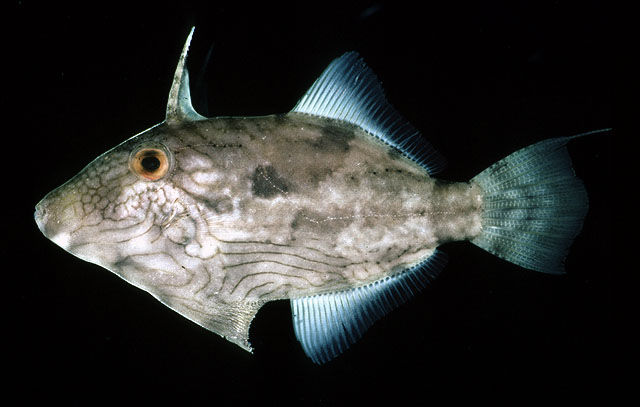fish: (34, 26, 582, 366)
